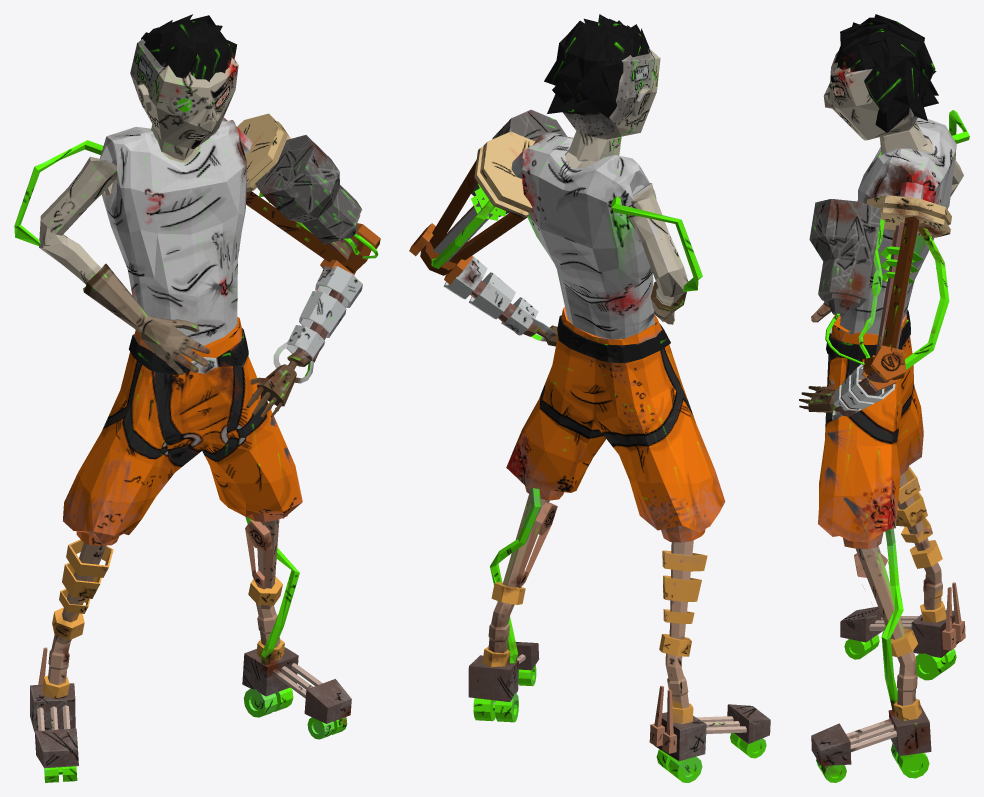
File: CyborgFINALAnimation_000023.obj
3 renders of one model, left to right at view 1: azimuth 30°, elevation 25°; view 2: azimuth 150°, elevation 25°; view 3: azimuth 270°, elevation 25°, orthographic. The views are drawn at different scales.
Parts seen in each view (by area): view 1: CyborgMesh_Cube.002; view 2: CyborgMesh_Cube.002; view 3: CyborgMesh_Cube.002.
Boxes of the visible parts, bbox=[...] form: CyborgMesh_Cube.002: bbox=[14, 14, 380, 782]; CyborgMesh_Cube.002: bbox=[409, 14, 770, 782]; CyborgMesh_Cube.002: bbox=[799, 14, 969, 782].
Size of the model in its own units: 4.84 by 9.59 by 2.11.
